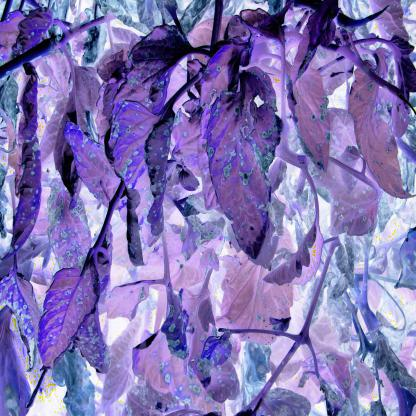Tomato Septoria leaf spot: (207, 63, 286, 267), (96, 16, 193, 142), (113, 97, 177, 241), (30, 259, 102, 377), (282, 59, 340, 179), (64, 120, 127, 223), (130, 295, 187, 400)
